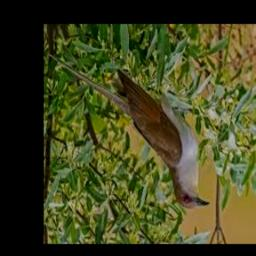Cuckoo: (50, 54, 211, 209)
